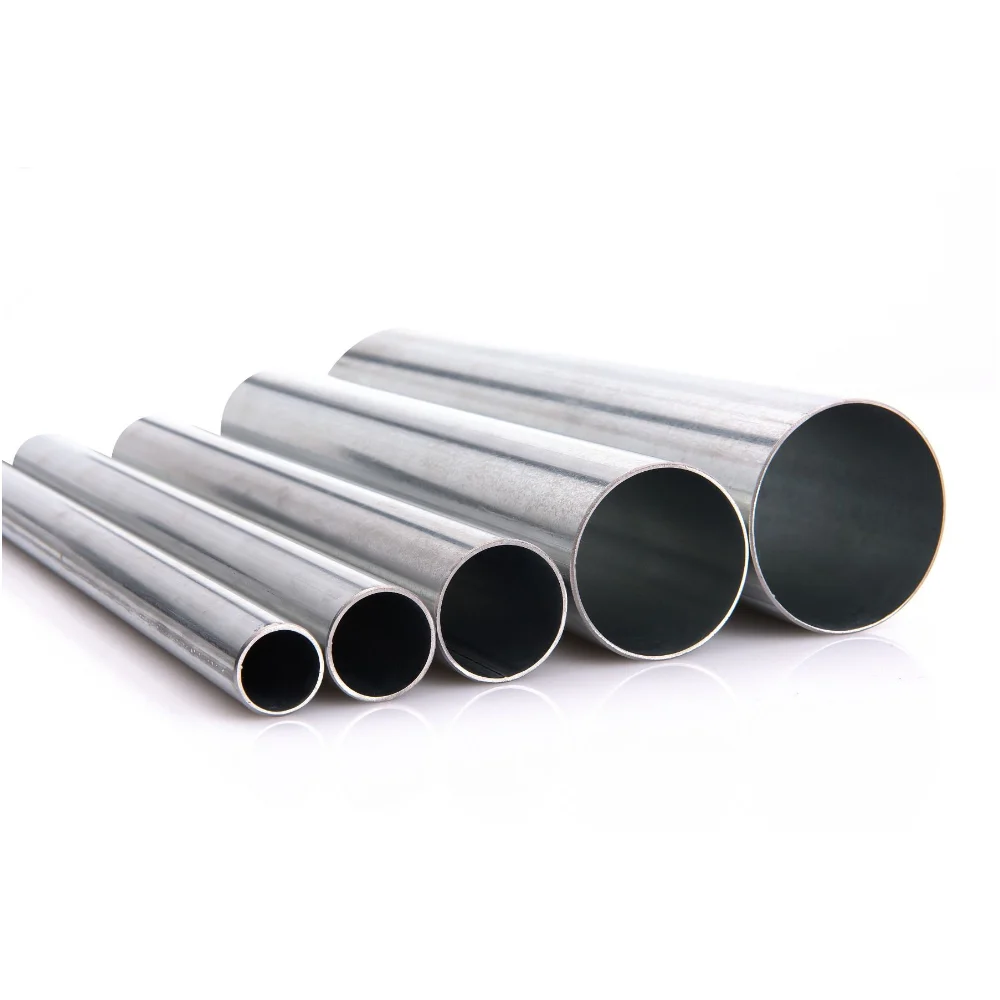steel_pipe: (747, 395, 948, 637), (567, 464, 751, 663), (431, 533, 573, 688), (322, 582, 437, 705), (235, 619, 329, 719)
